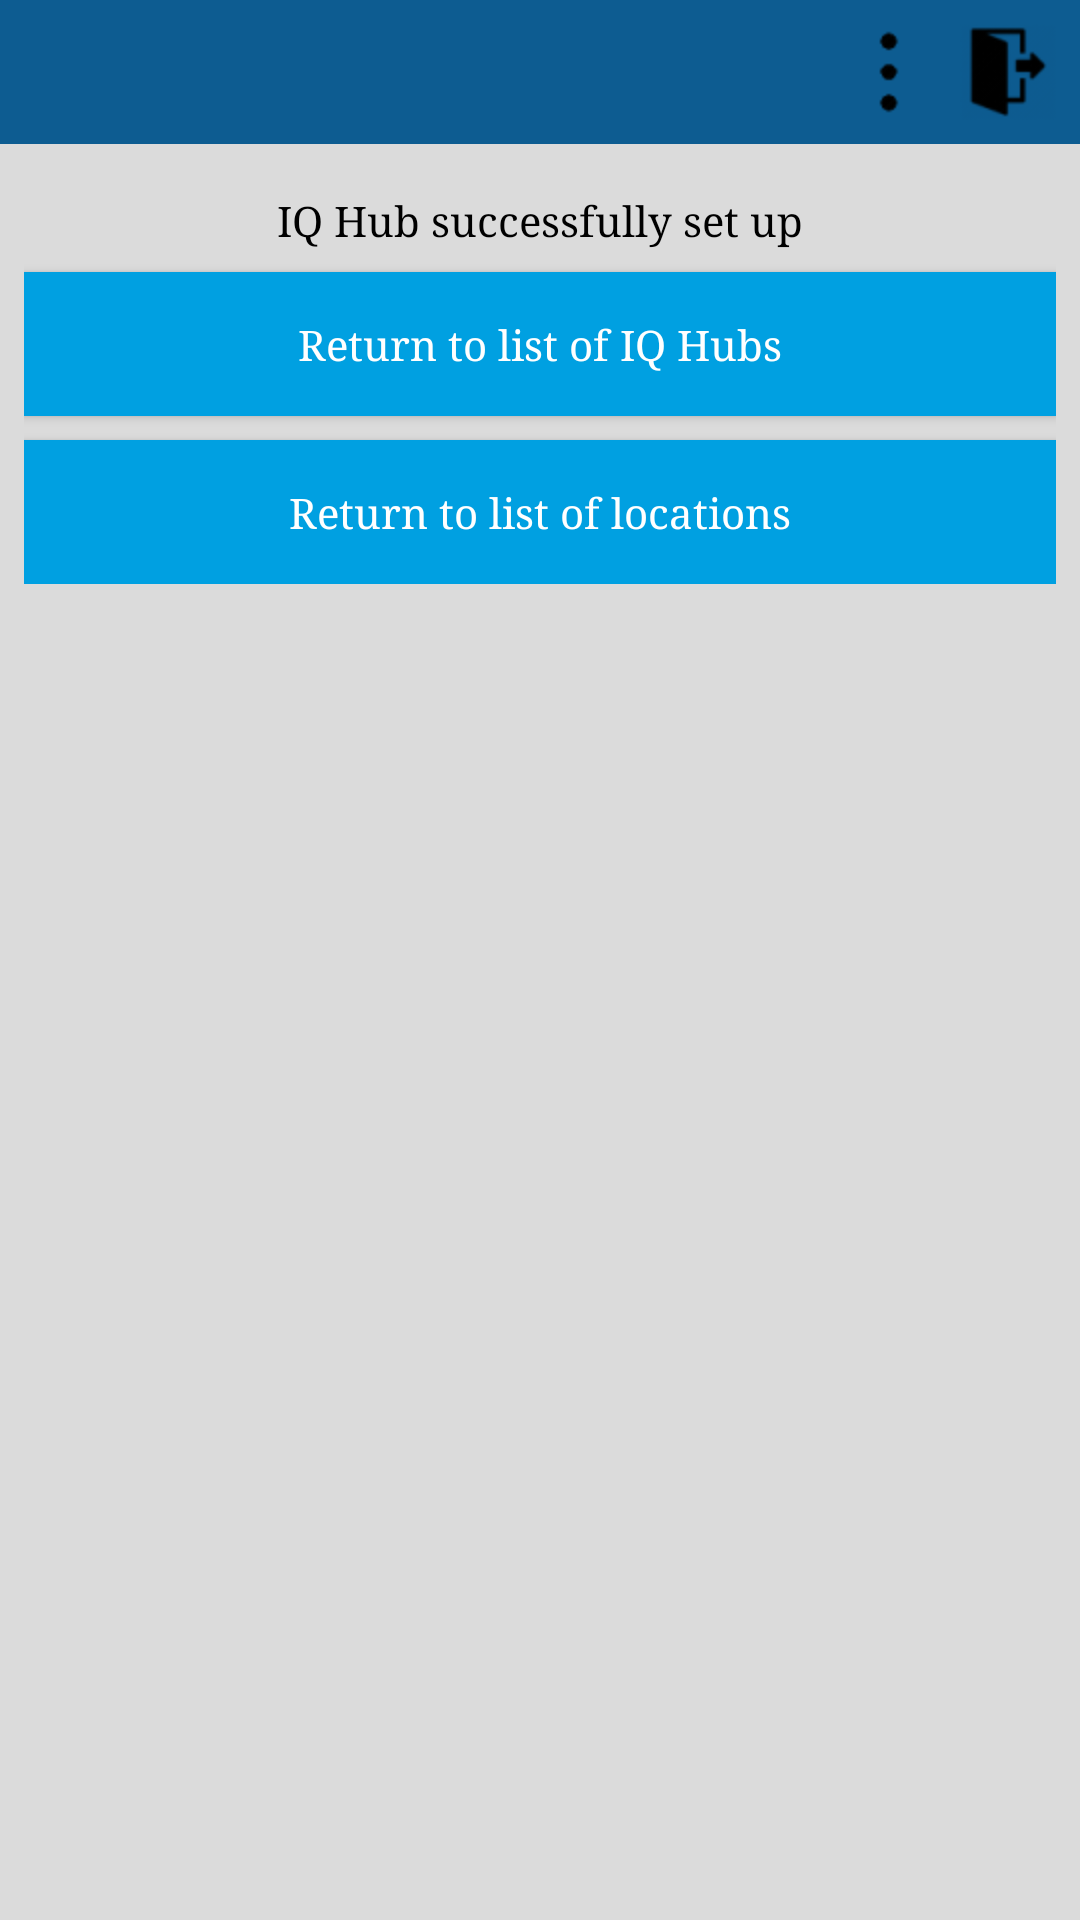

Locate icon controls on the screen. Image size 1080*1920, boxes as (x1, y1, x2, y2).
exit: (970, 28, 1046, 116)
